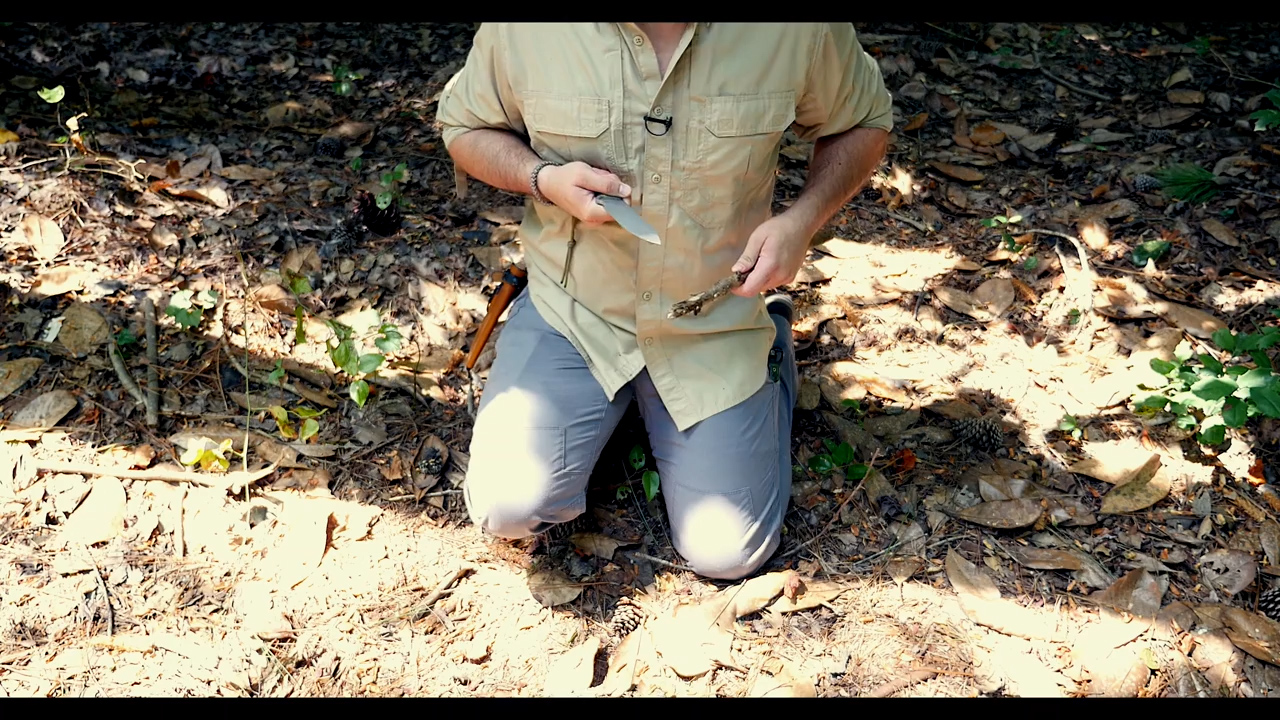knife: (551, 169, 669, 251)
